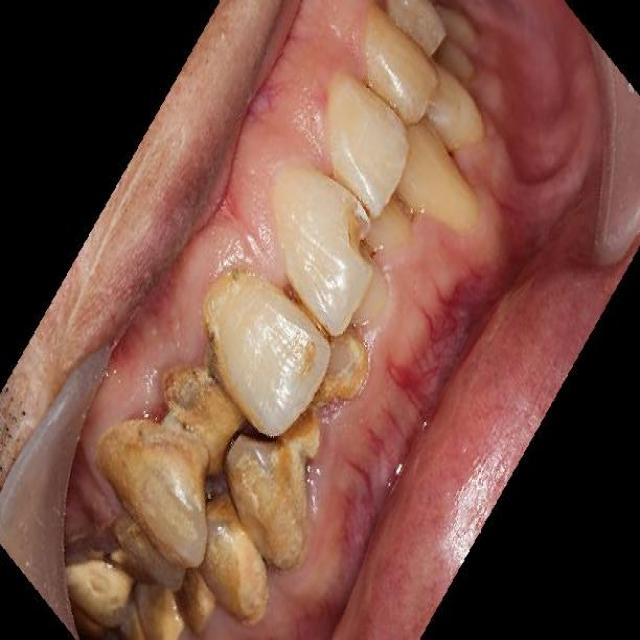bleeding: (120, 382, 181, 436)
swelling: (235, 232, 307, 297), (397, 196, 439, 255)
